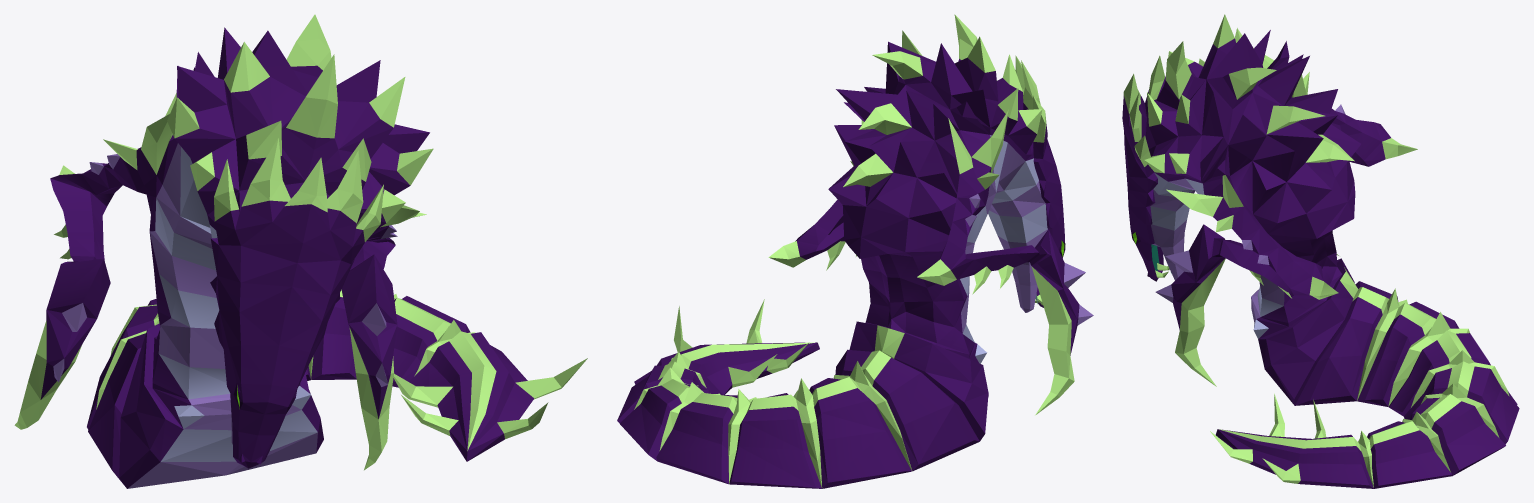
The model's file is Attack (4).obj.
3 views of the same model, side by side, from view 1: azimuth 30°, elevation 25°; view 2: azimuth 150°, elevation 25°; view 3: azimuth 270°, elevation 25° (orthographic). The views are drawn at different scales.
Visible parts, largest first — view 1: Alien_Serpent; view 2: Alien_Serpent; view 3: Alien_Serpent.
Boxes of the visible parts, box(x1,y1,x2,y2) form: Alien_Serpent: box(14, 14, 587, 488); Alien_Serpent: box(617, 14, 1093, 488); Alien_Serpent: box(1122, 14, 1519, 488).
Bounding box in the file's own units: 250 × 212 × 217.
Materials: 1 (1 with a texture image).
